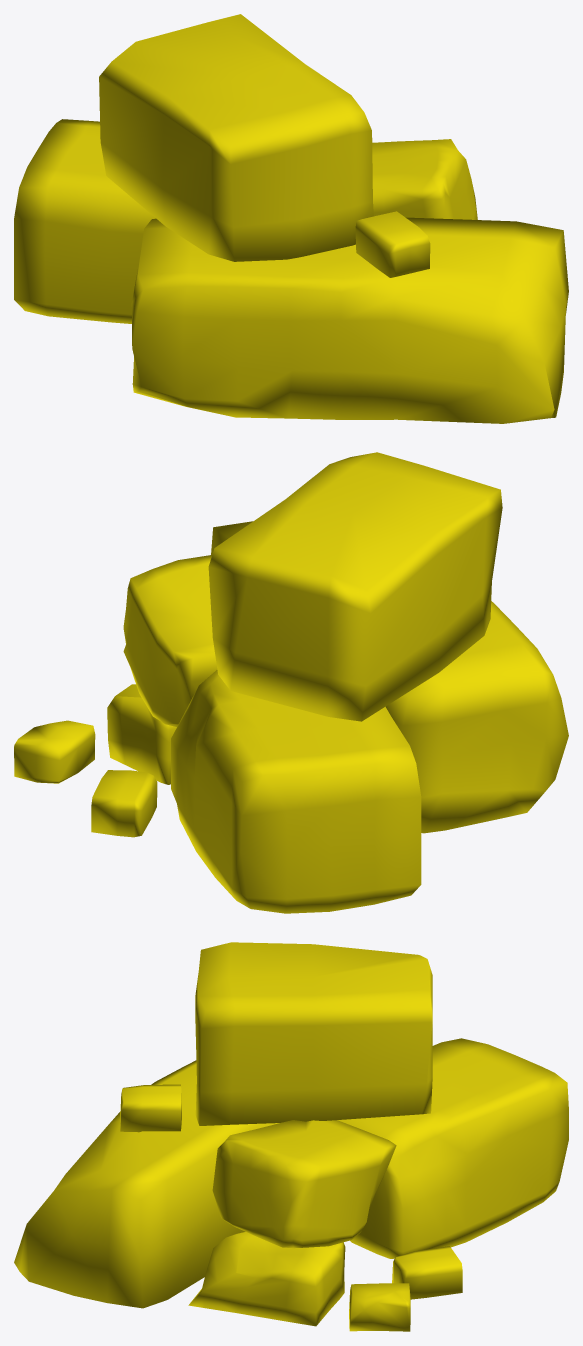
Rendered from Block_Pile_01_Lod0.fbx.
3 views of the same model, one above another, from view 1: azimuth 30°, elevation 25°; view 2: azimuth 150°, elevation 25°; view 3: azimuth 270°, elevation 25° (orthographic). The views are drawn at different scales.
Visible parts, largest first — view 1: Block_Pile_01_Lod0; view 2: Block_Pile_01_Lod0; view 3: Block_Pile_01_Lod0.
Part boxes in pixels (left/top/right/bottom): Block_Pile_01_Lod0: left=14, top=14, right=568, bottom=423; Block_Pile_01_Lod0: left=14, top=452, right=568, bottom=913; Block_Pile_01_Lod0: left=14, top=942, right=568, bottom=1331.
Bounding box in the file's own units: 1723 × 1109 × 2217.
